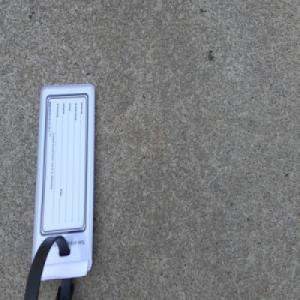LuggageTag: (21, 80, 97, 300)
